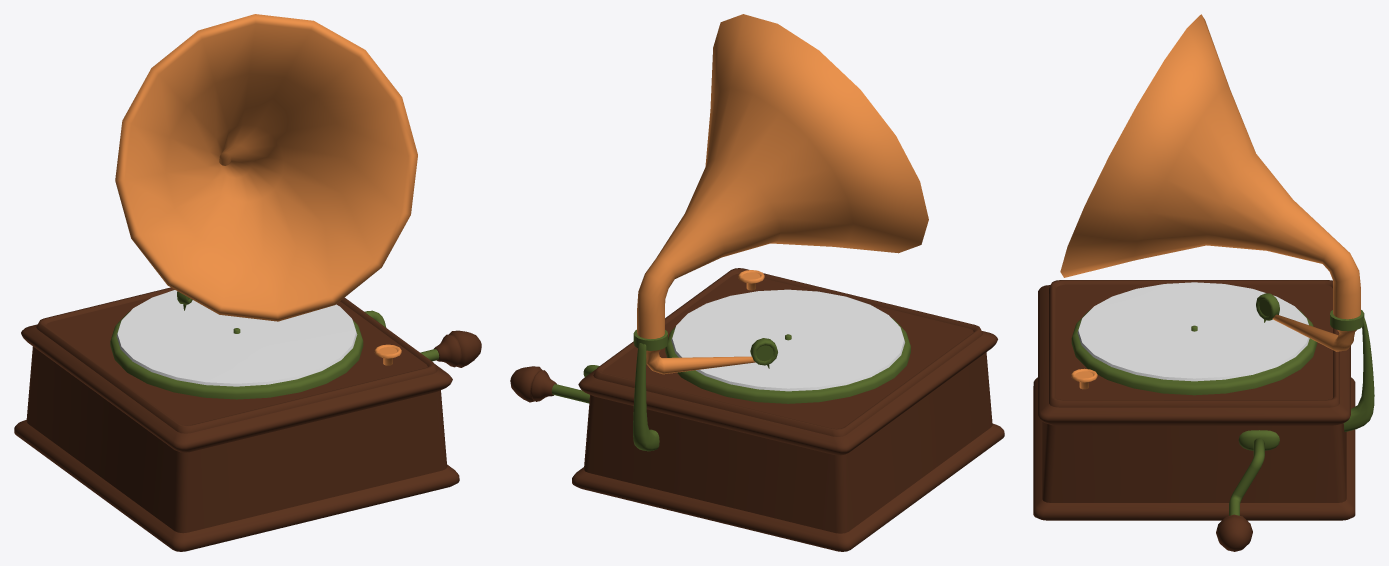
The model's file is Grammophone.fbx.
The picture shows the model from 3 angles, left to right: view 1: azimuth 30°, elevation 25°; view 2: azimuth 150°, elevation 25°; view 3: azimuth 270°, elevation 25°; orthographic projection. The views are drawn at different scales.
Parts seen in each view (by area): view 1: Grammophone, Vinyl; view 2: Grammophone, Vinyl; view 3: Grammophone, Vinyl.
Part boxes in pixels (x1,y1,x2,y2): Grammophone: (14, 14, 481, 551); Vinyl: (116, 290, 357, 386); Grammophone: (510, 14, 1004, 551); Vinyl: (671, 289, 904, 391); Grammophone: (1033, 14, 1374, 551); Vinyl: (1077, 282, 1309, 381).
Size of the model in its own units: 57.29 by 59.99 by 42.84.
